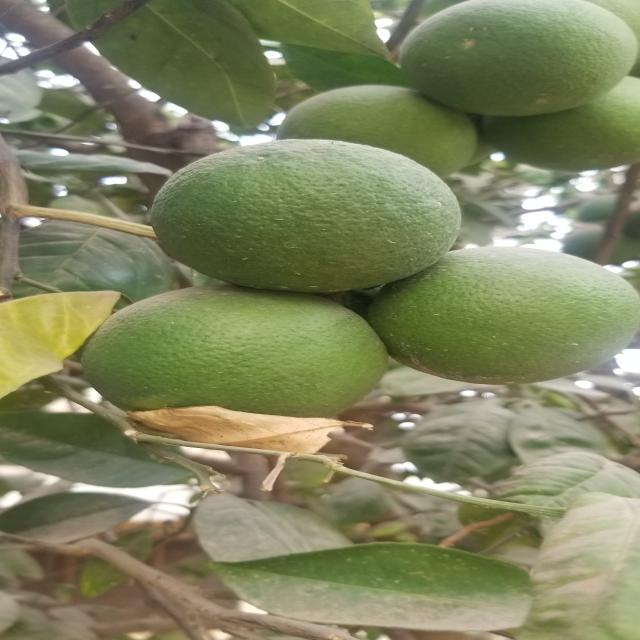Unripe: (98, 284, 402, 449), (154, 143, 464, 298), (408, 240, 627, 395), (395, 0, 640, 121)
